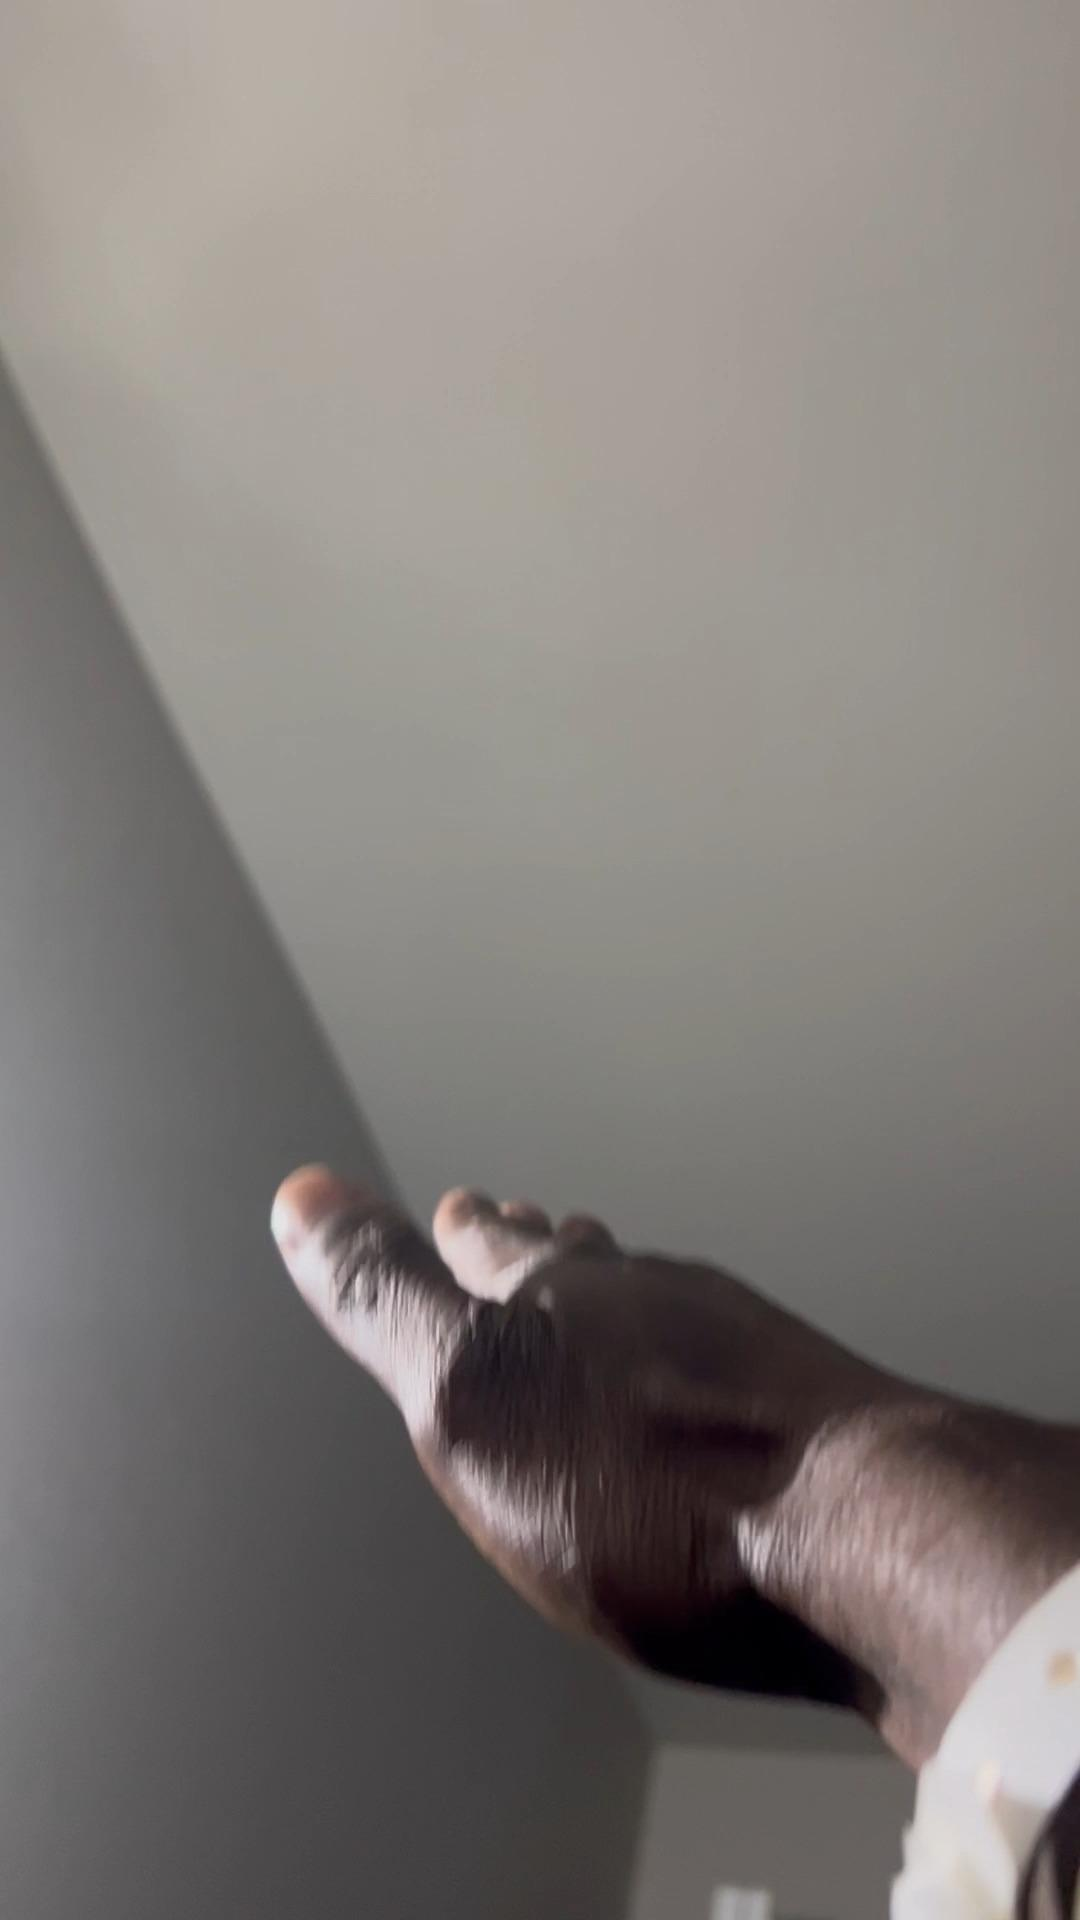Paper: (270, 1163, 889, 1720)
